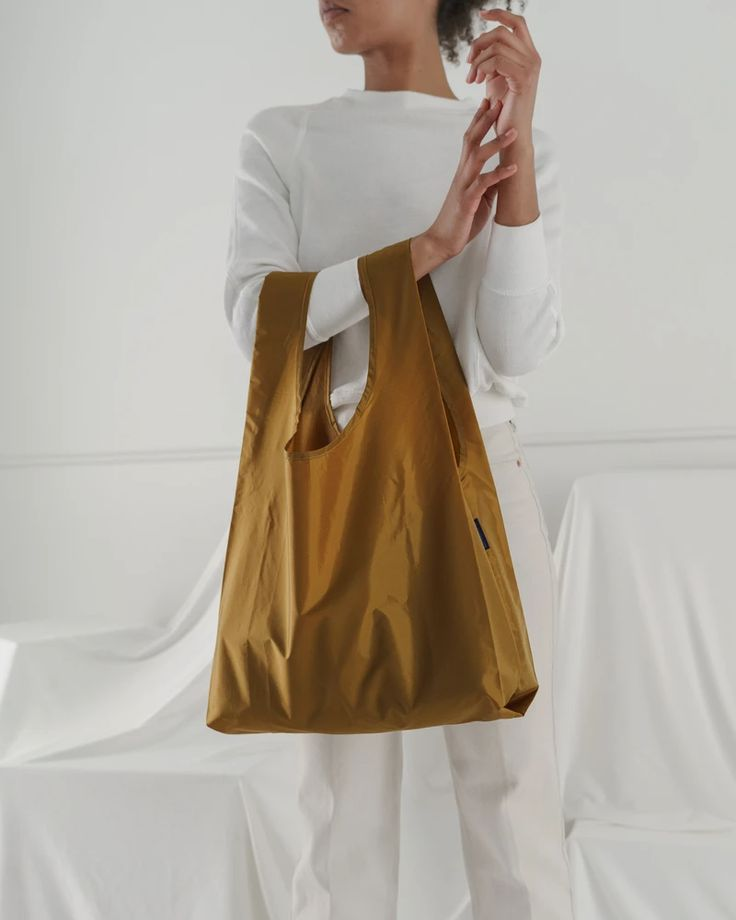nylon: (205, 236, 538, 737)
